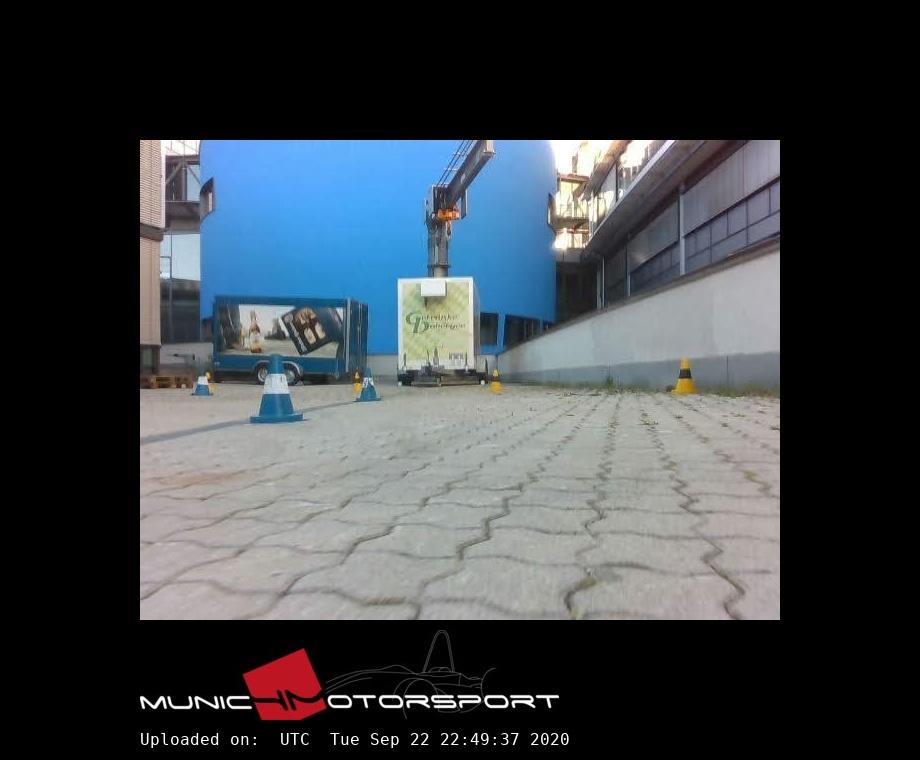blue_cone: (250, 354, 313, 423), (355, 367, 382, 401), (192, 369, 213, 397)
yellow_cone: (671, 359, 697, 394), (487, 369, 502, 390), (205, 372, 215, 391), (351, 372, 361, 391)
